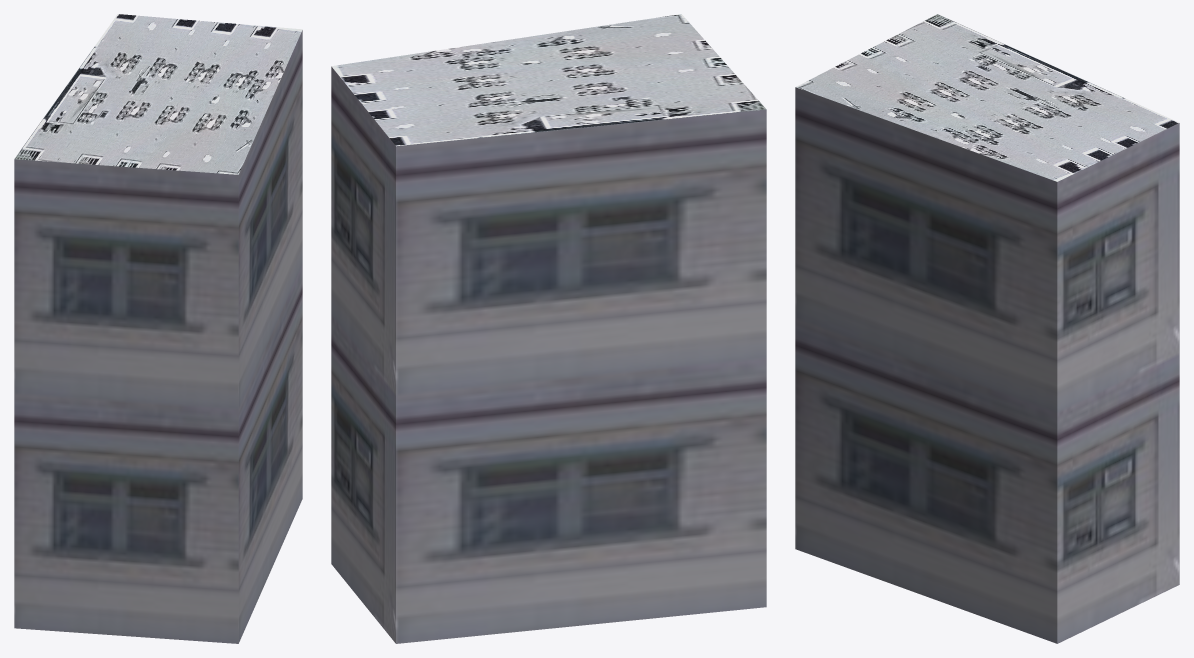
Rendered from ResTex__5278.fbx.
3 views of the same model, side by side, from view 1: azimuth 30°, elevation 25°; view 2: azimuth 150°, elevation 25°; view 3: azimuth 270°, elevation 25° (orthographic). The views are drawn at different scales.
Parts seen in each view (by area): view 1: CityEngineMaterial_1_m, CityEngineMaterial_8_m; view 2: CityEngineMaterial_1_m, CityEngineMaterial_8_m; view 3: CityEngineMaterial_1_m, CityEngineMaterial_8_m.
Part boxes in pixels (x1,y1,x2,y2): CityEngineMaterial_1_m: [14, 30, 302, 643]; CityEngineMaterial_8_m: [14, 14, 302, 174]; CityEngineMaterial_1_m: [331, 66, 766, 643]; CityEngineMaterial_8_m: [331, 14, 766, 146]; CityEngineMaterial_1_m: [795, 87, 1179, 643]; CityEngineMaterial_8_m: [795, 14, 1179, 181].
Bounding box in the file's own units: 4.68 × 6 × 4.52.
Materials: 2 (2 with a texture image).
